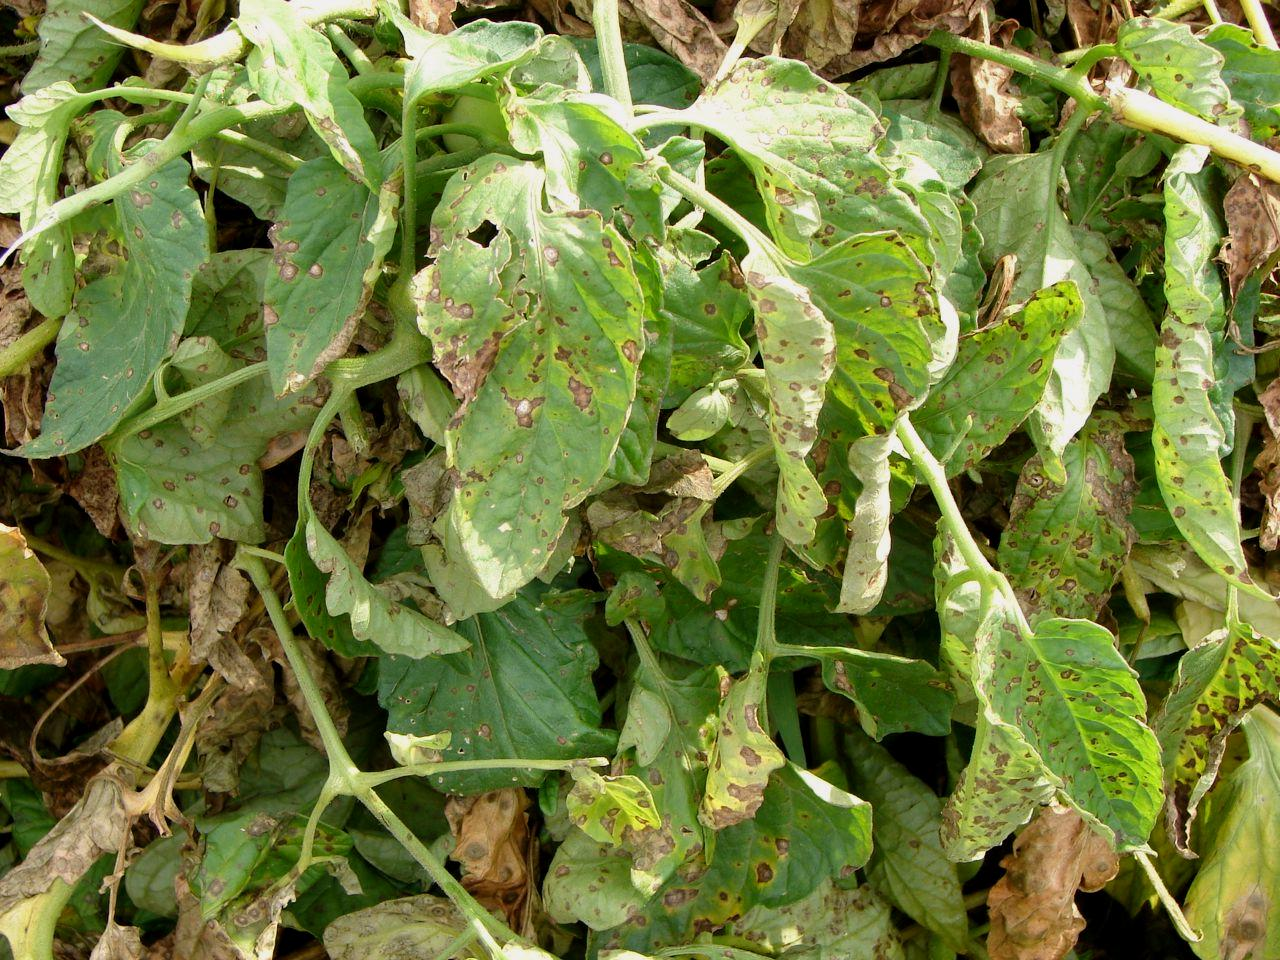Tomato Septoria leaf spot: (400, 145, 644, 615), (687, 36, 984, 328), (735, 224, 932, 557), (965, 598, 1188, 869), (235, 135, 411, 414), (890, 277, 1084, 514), (703, 681, 879, 923)
